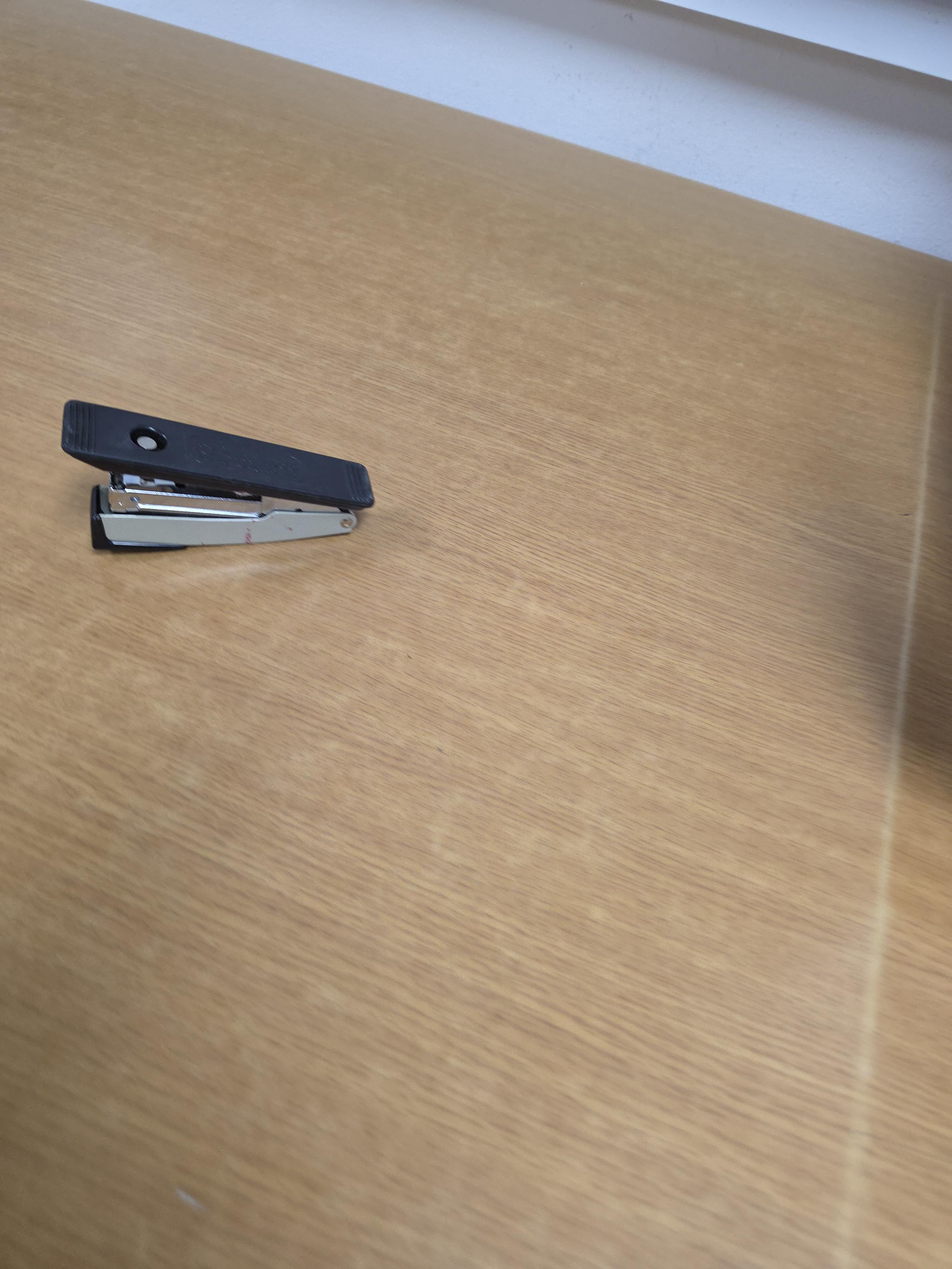stapler: (61, 399, 375, 551)
